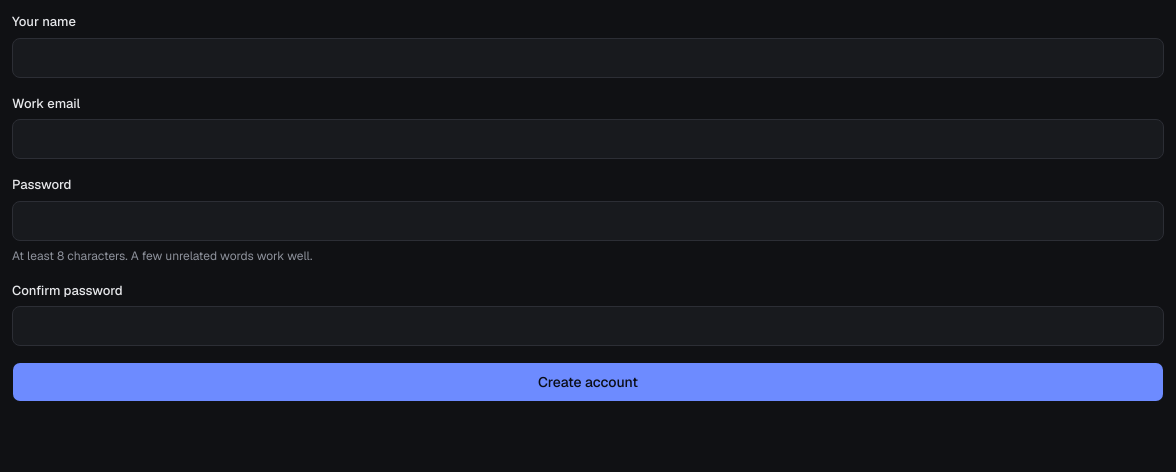
it: SignUpForm › keeps an error about no one field under the form
Type "ada@example.com" into the field labelled "Work email".
click(588, 139); type("ada@example.com")  # box top-left (12, 119), bottom-right (1164, 159)
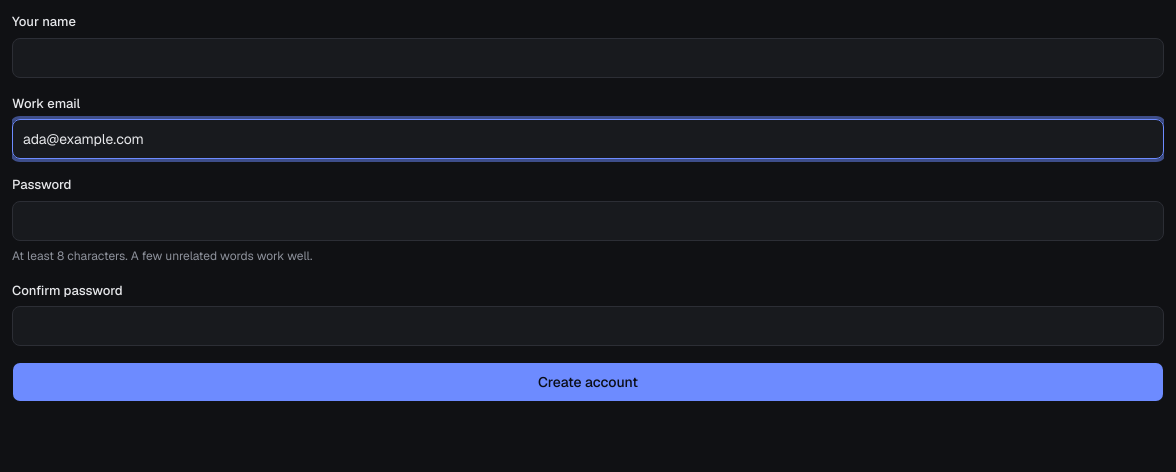
Type "correct horse" into the password field labelled "Password".
click(588, 220); type("correct horse")  # box top-left (12, 200), bottom-right (1164, 240)
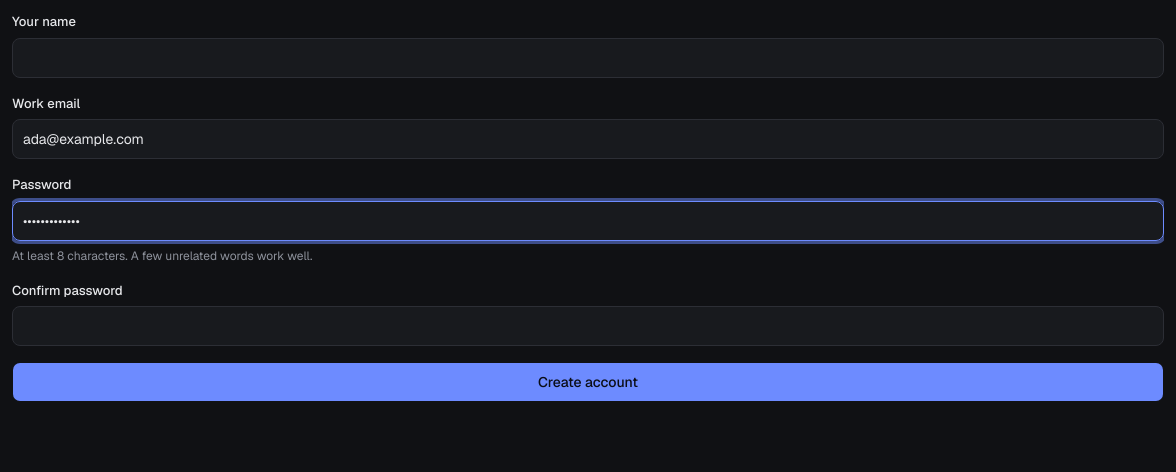
Type "correct house" into the password field labelled "Confirm password".
click(588, 326); type("correct house")  # box top-left (12, 306), bottom-right (1164, 346)
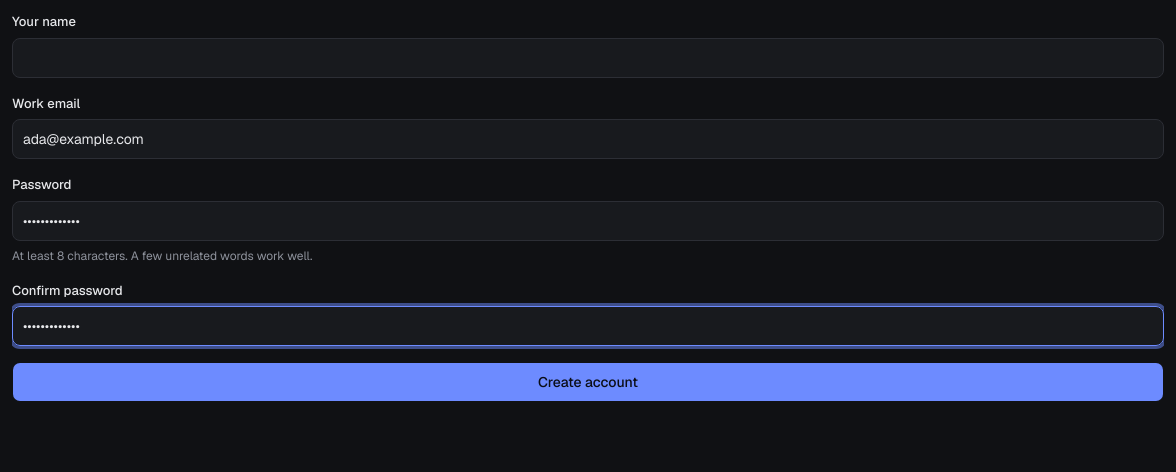
Click the button "Create account".
click(588, 382)  # box top-left (12, 362), bottom-right (1164, 402)
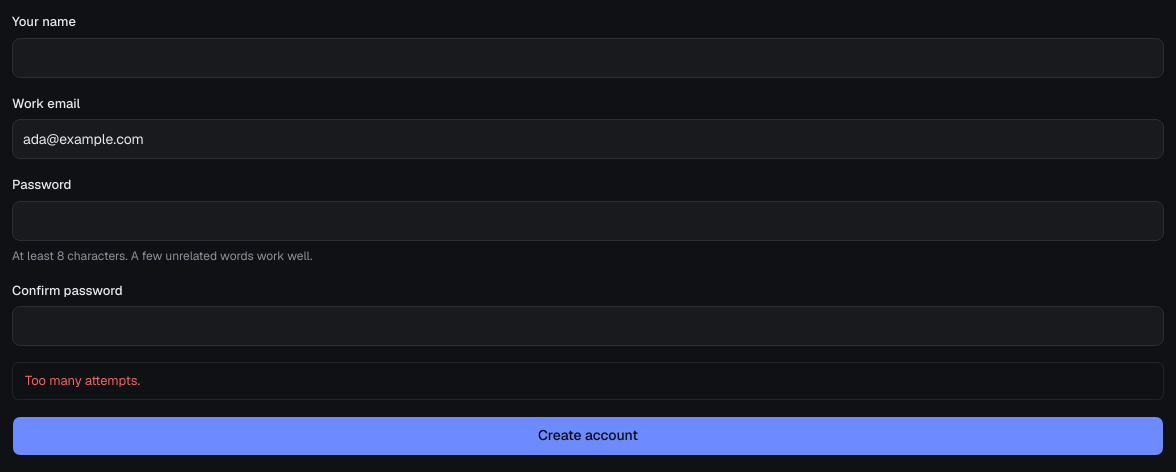
Expected: the message reads "Too many attempts.", top-left (25, 372), bottom-right (140, 389)
